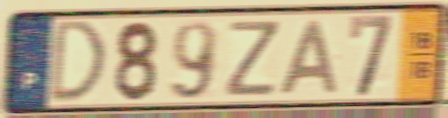7: (346, 11, 396, 100)
8: (113, 18, 162, 104)
9: (166, 18, 224, 102)
A: (276, 17, 340, 97)
D: (47, 18, 109, 108)
Z: (222, 19, 284, 100)
